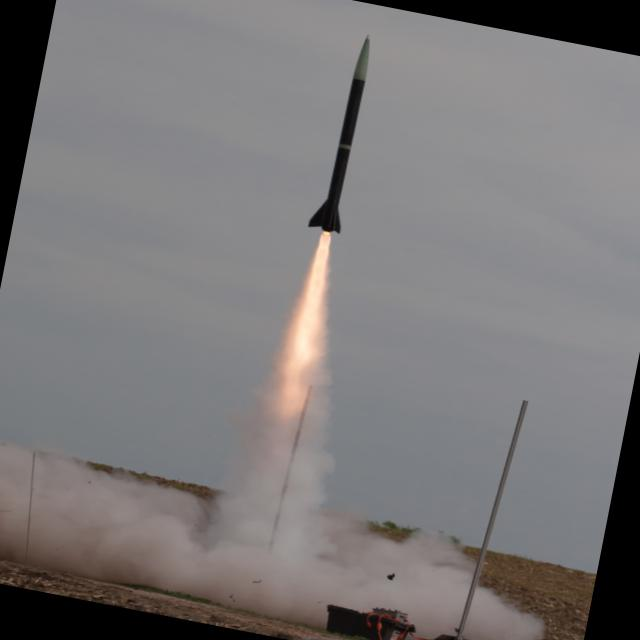rocket: (284, 28, 387, 335)
